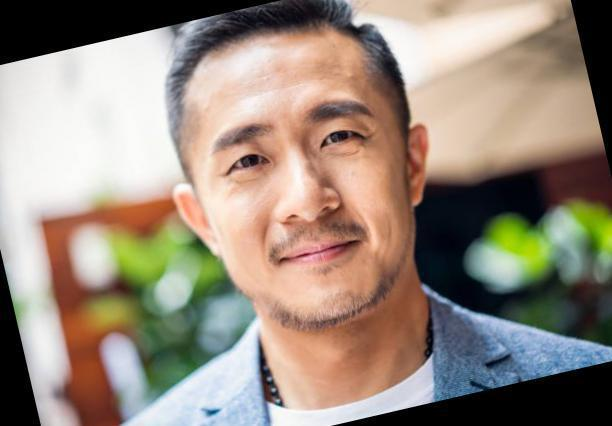Sober: (190, 48, 415, 299)
